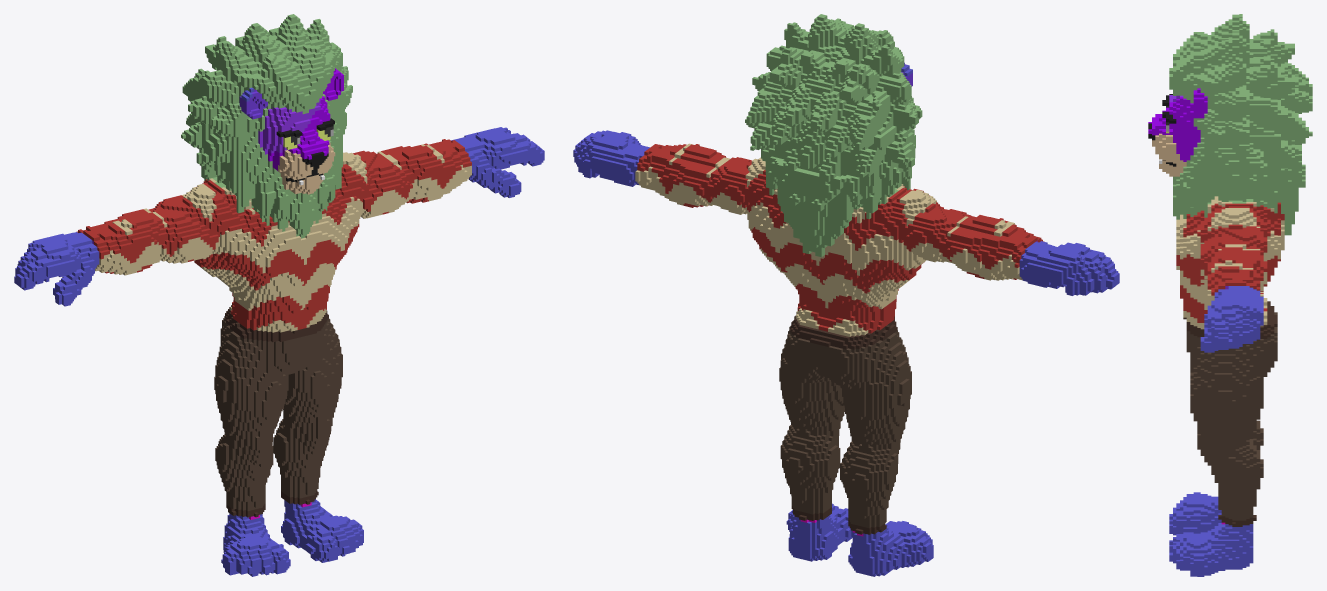
The model's file is 958-SKP6zELq.fbx.
3 views of the same model, side by side, from view 1: azimuth 30°, elevation 25°; view 2: azimuth 150°, elevation 25°; view 3: azimuth 270°, elevation 25° (orthographic). The views are drawn at different scales.
Visible parts, largest first — view 1: standard; view 2: standard; view 3: standard.
Part boxes in pixels (<box>): standard: <box>14,14,544,576</box>; standard: <box>573,14,1119,576</box>; standard: <box>1148,14,1312,576</box>.
Size of the model in its own units: 17.2 by 16.5 by 4.7.
Materials: 5 (5 with a texture image).
